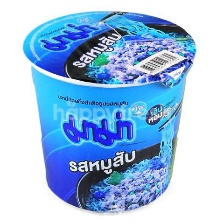paper_cup: (17, 4, 200, 217)
